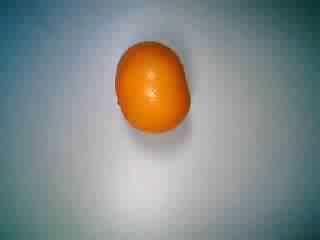orange: (112, 38, 196, 135)
